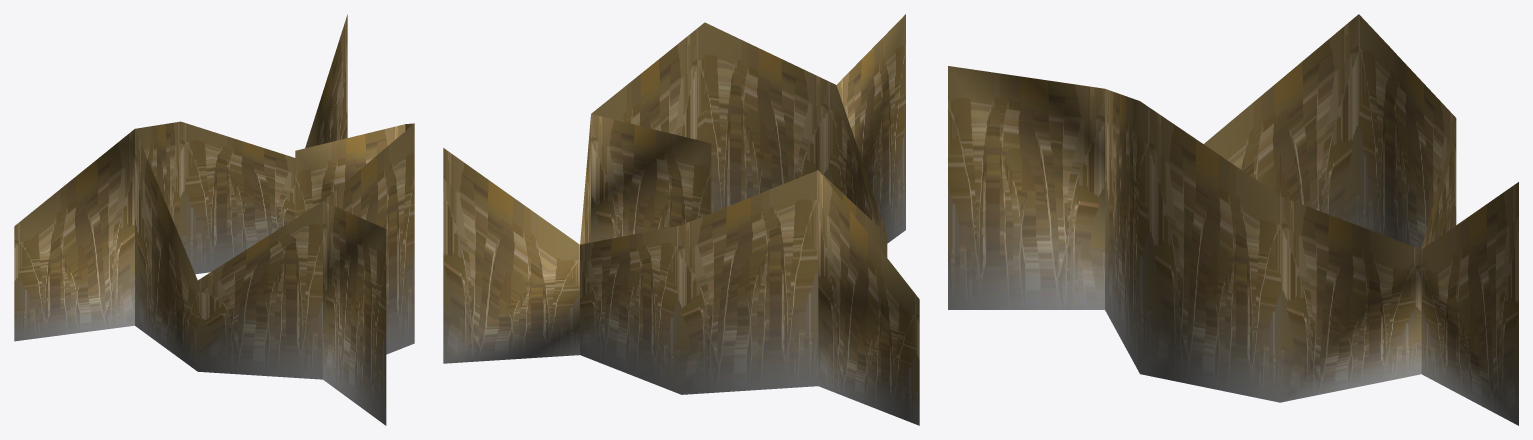
Rendered from mveg2am.glb.
3 views of the same model, side by side, from view 1: azimuth 30°, elevation 25°; view 2: azimuth 150°, elevation 25°; view 3: azimuth 270°, elevation 25° (orthographic). The views are drawn at different scales.
Visible parts, largest first — view 1: _mveg2am; view 2: _mveg2am; view 3: _mveg2am.
Boxes of the visible parts, x1=… form: _mveg2am: x1=14, y1=14, x2=414, y2=425; _mveg2am: x1=443, y1=14, x2=919, y2=425; _mveg2am: x1=948, y1=14, x2=1518, y2=425.
Bounding box in the file's own units: 4.71 × 2.58 × 4.89.
1 material, 1 textured.
